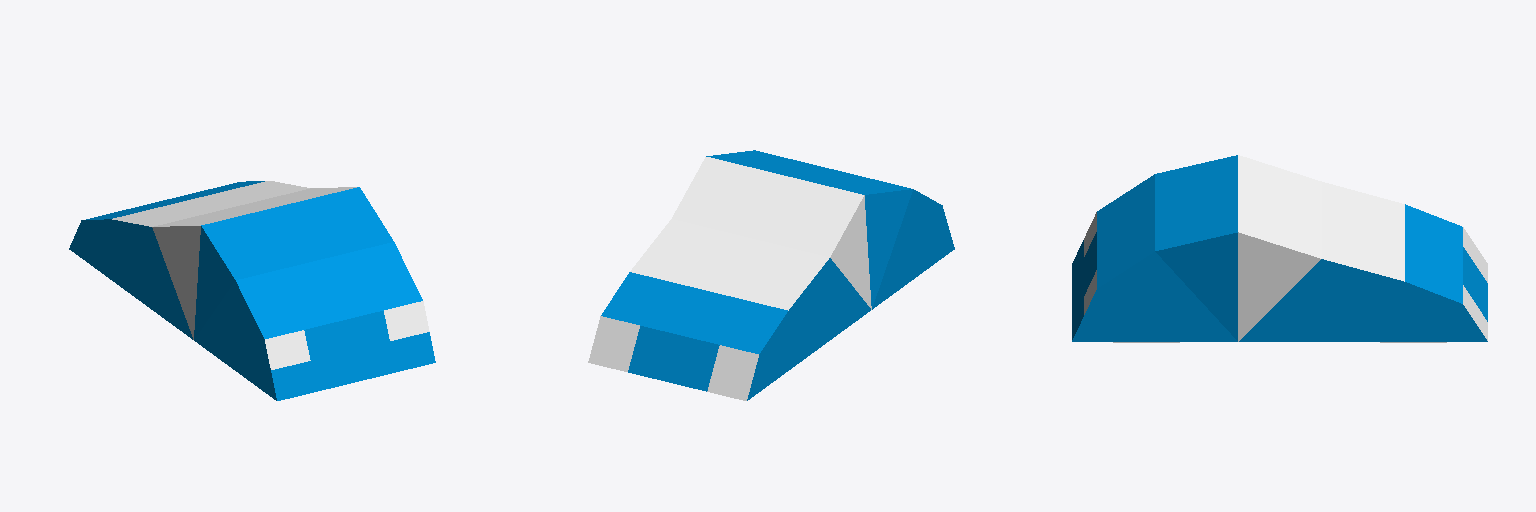
Rendered from model-triangulated.obj.
3 views of the same model, side by side, from view 1: azimuth 30°, elevation 25°; view 2: azimuth 150°, elevation 25°; view 3: azimuth 270°, elevation 25° (orthographic).
Visible parts, largest first — view 1: group[number redacted]; view 2: group[number redacted]; view 3: group[number redacted].
Boxes of the visible parts, box(x1,y1,x2,y2) form: group[number redacted]: box(69, 181, 435, 400); group[number redacted]: box(588, 150, 954, 400); group[number redacted]: box(1072, 155, 1487, 341).
Bounding box in the file's own units: 0.23 × 0.17 × 0.5.